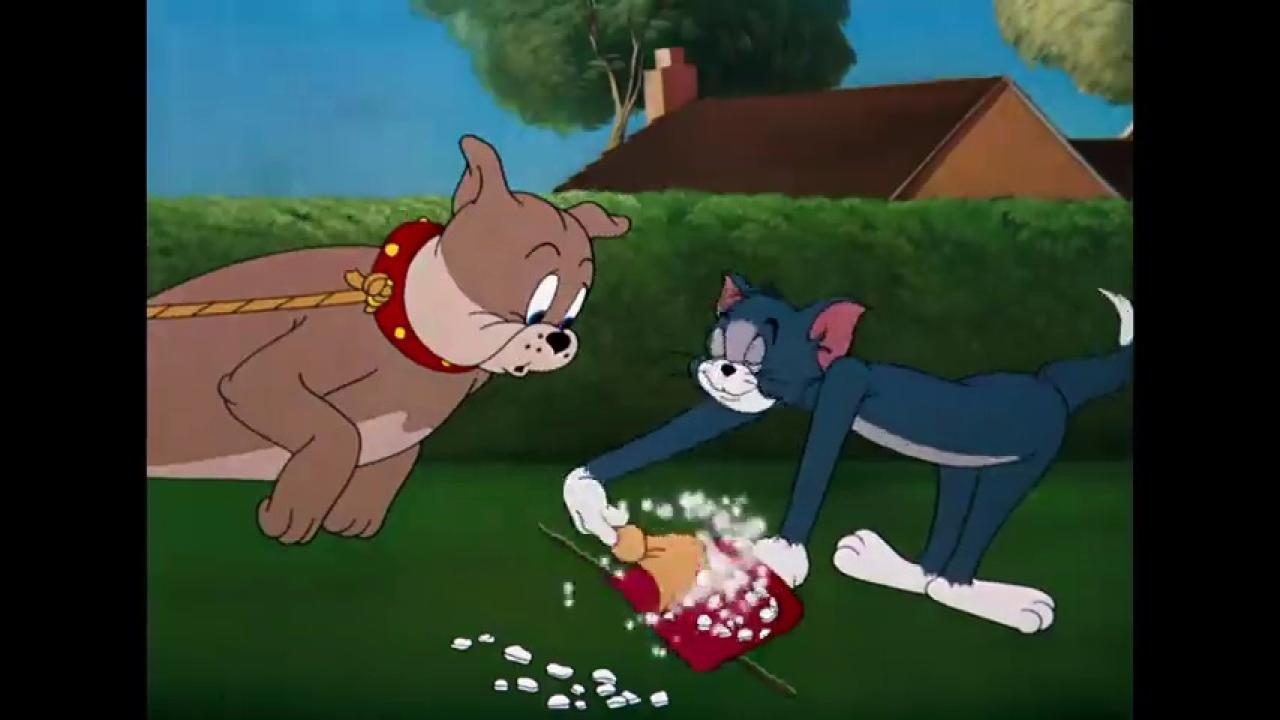Tom: (561, 264, 1133, 643)
